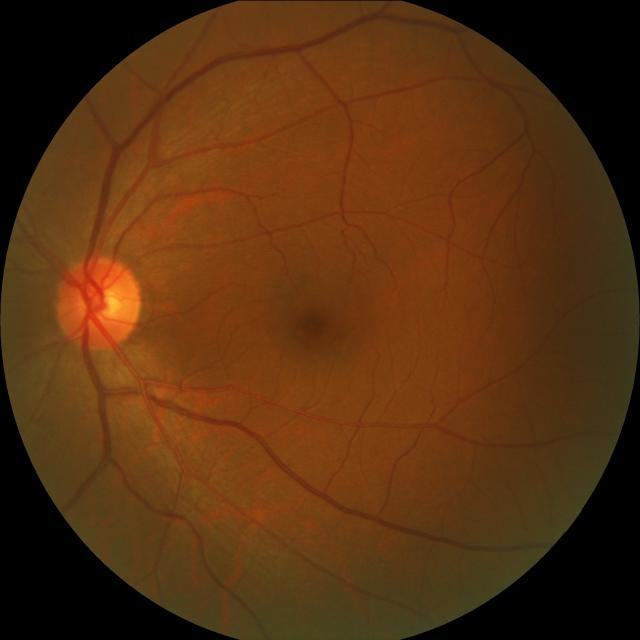OC: (92, 290, 120, 317)
OD: (54, 255, 140, 348)
